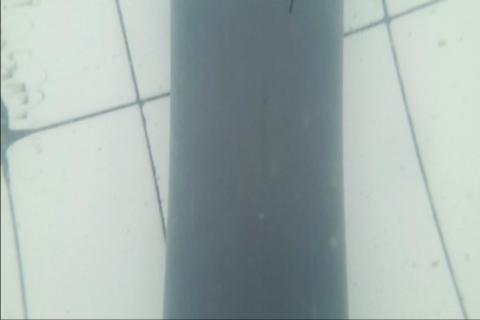keretakan: (287, 0, 296, 16)
